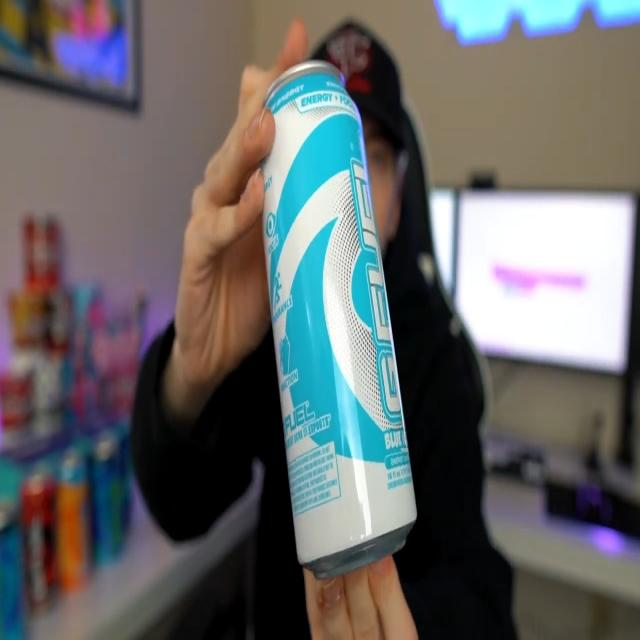can: (258, 54, 421, 584)
